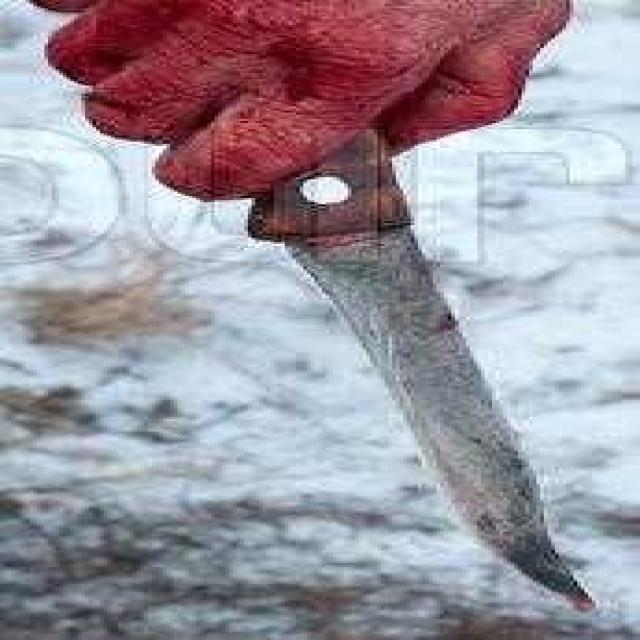Knife: (208, 57, 616, 619)
